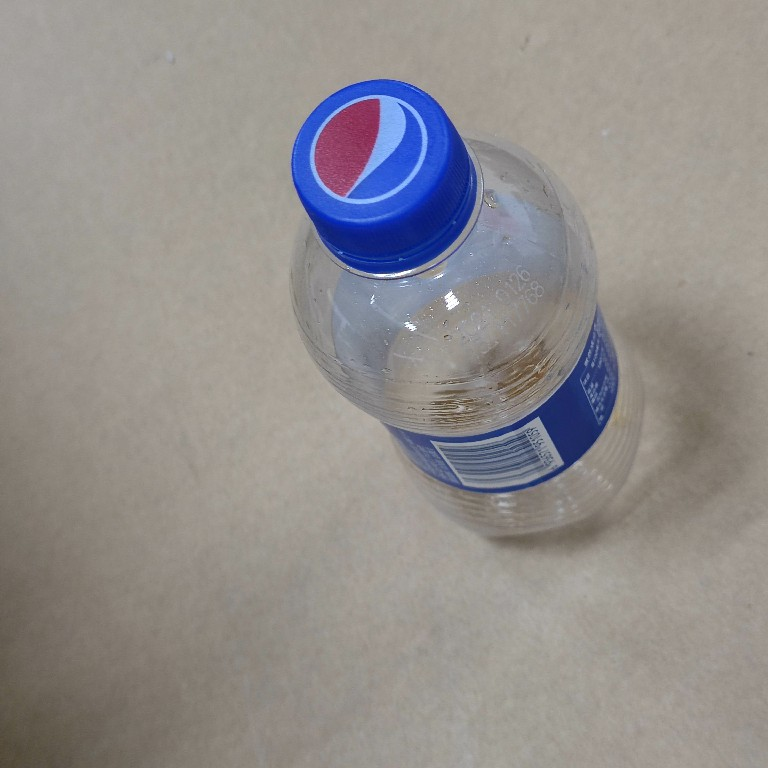bottle: (281, 75, 652, 550)
